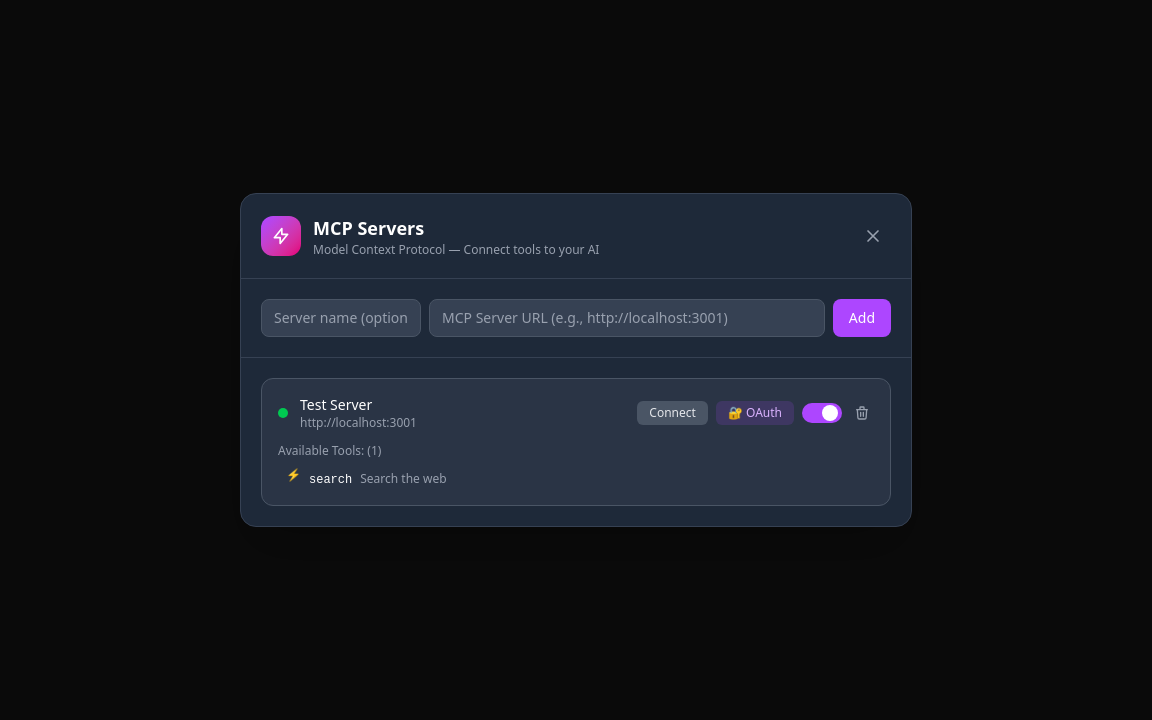
MCPPanel › should surface an error and not keep an unsaved server when saving fails
Type "http://localhost:3003" into the field with placeholder "MCP Server URL (e.g., http://localhost:3001)".
click(627, 318); type("http://localhost:3003")  # box [429,299,825,337]
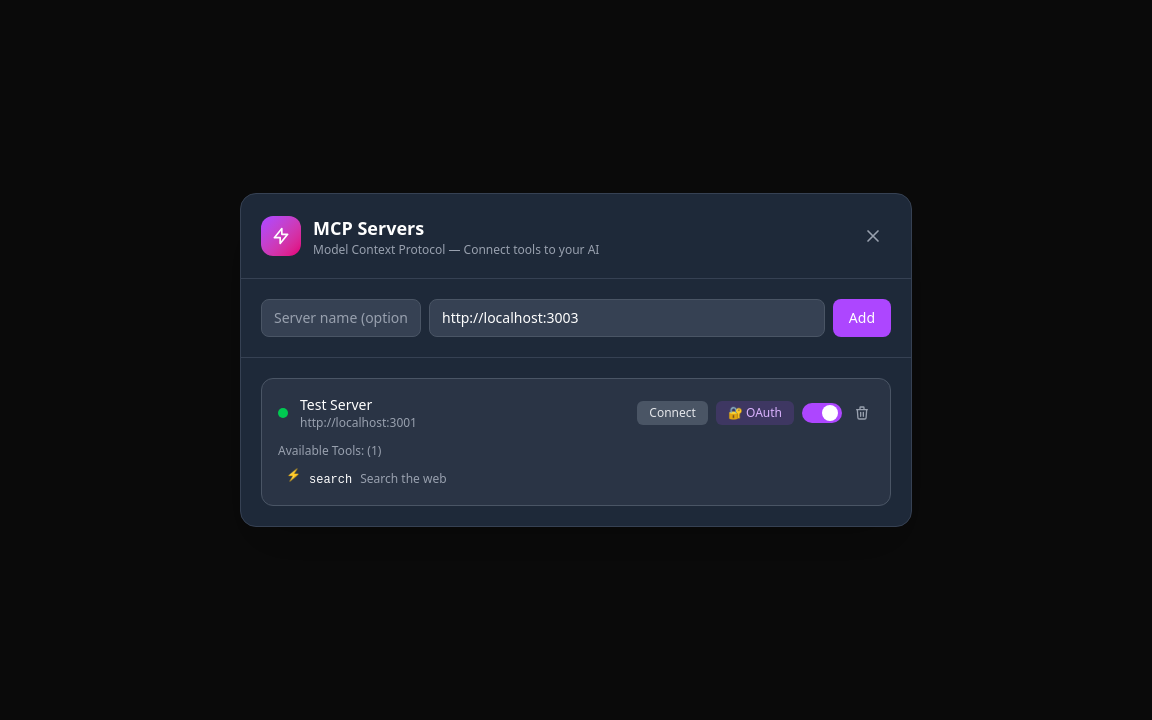
Click the button "Add".
click(862, 318)  # box [833,299,891,337]
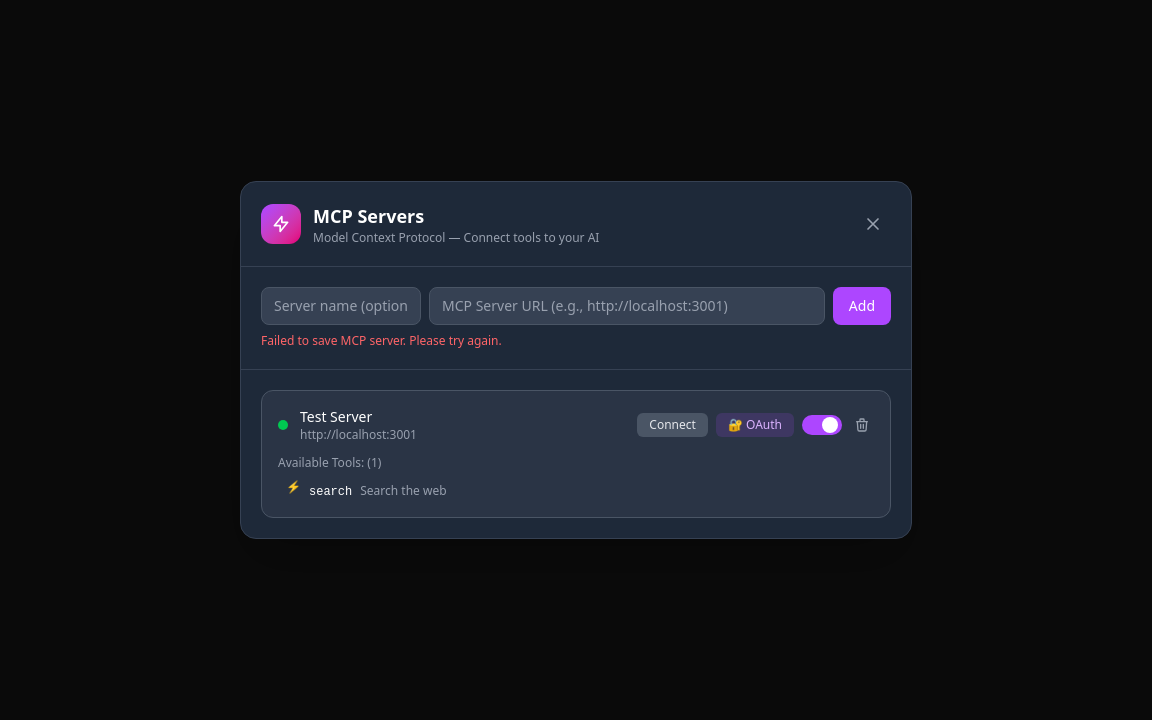
Result: the text "Failed to save MCP server. Please try again." is shown at [261,332,502,349]
